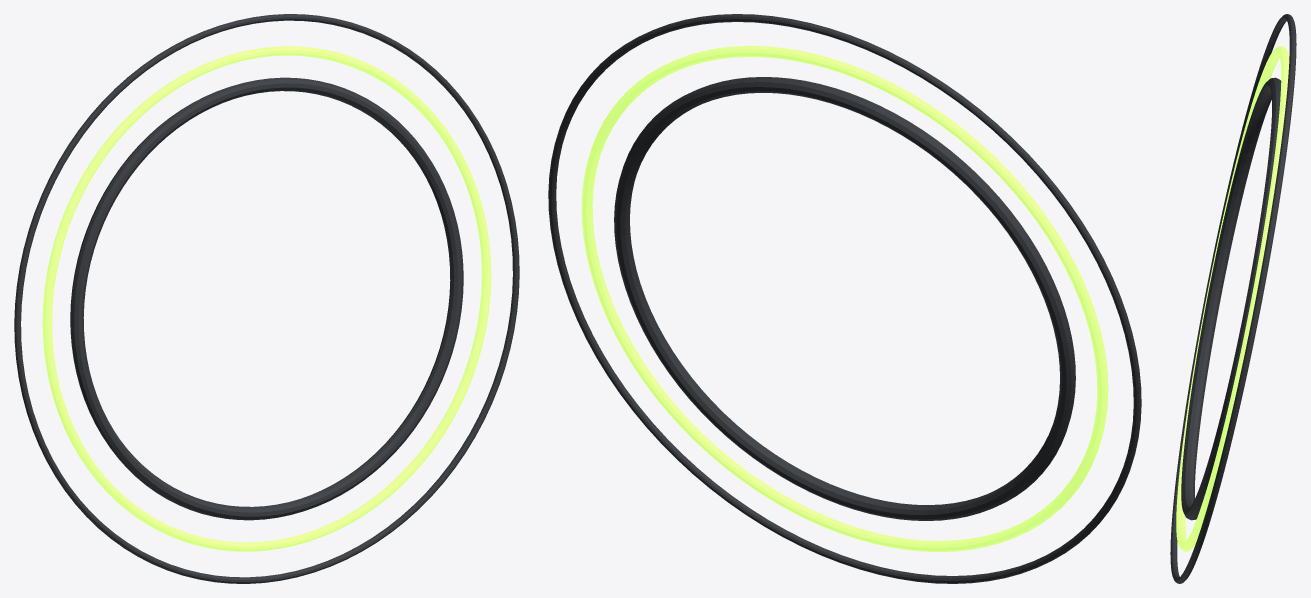
The model's file is portal.glb.
The picture shows the model from 3 angles, left to right: view 1: azimuth 30°, elevation 25°; view 2: azimuth 150°, elevation 25°; view 3: azimuth 270°, elevation 25°; orthographic projection. The views are drawn at different scales.
Visible parts, largest first — view 1: Portal0, Portal1, Portal2; view 2: Portal0, Portal1, Portal2; view 3: Portal0, Portal2, Portal1.
Boxes of the visible parts, x1,y1,x2,y2 form: Portal0: (70,77,463,520); Portal1: (42,46,491,551); Portal2: (14,14,519,583); Portal0: (614,77,1075,520); Portal1: (581,46,1108,551); Portal2: (548,14,1141,583); Portal0: (1181,77,1281,520); Portal2: (1170,14,1296,583); Portal1: (1176,46,1289,551).
Bounding box in the file's own units: 4.25 × 4.16 × 0.9228.
